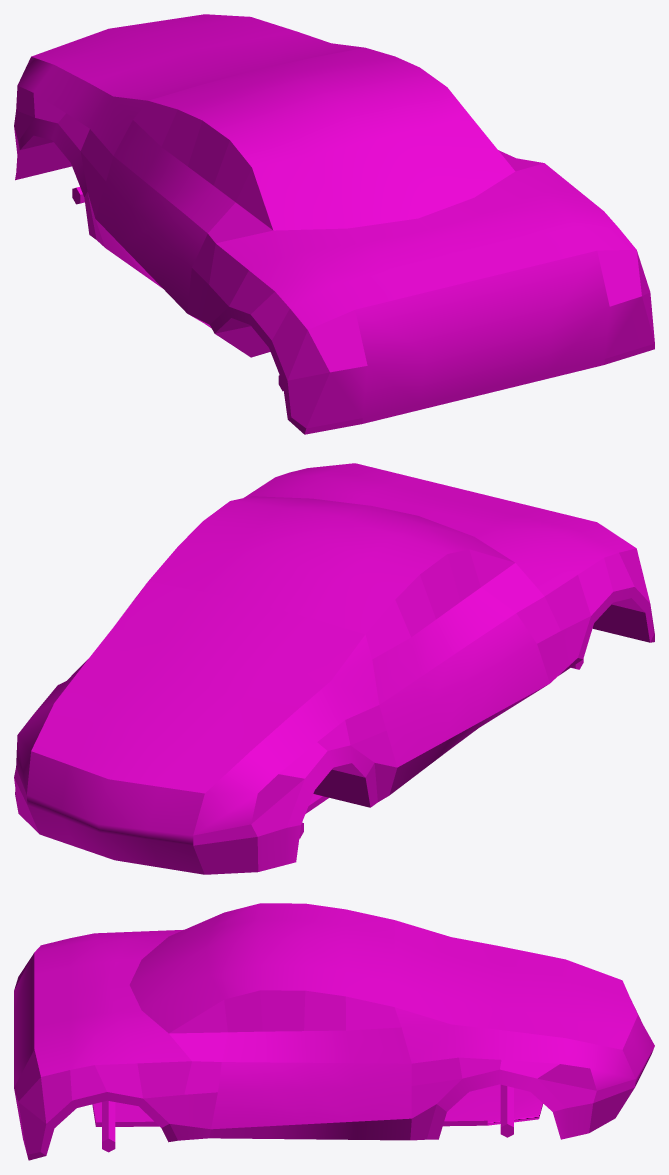
The model's file is P1_Car_Sport.fbx.
3 renders of one model, top to bottom at view 1: azimuth 30°, elevation 25°; view 2: azimuth 150°, elevation 25°; view 3: azimuth 270°, elevation 25°, orthographic. The views are drawn at different scales.
Parts seen in each view (by area): view 1: Car_Sport; view 2: Car_Sport; view 3: Car_Sport.
Part boxes in pixels (<box>): Car_Sport: <box>14,14,654,434</box>; Car_Sport: <box>14,463,654,874</box>; Car_Sport: <box>14,903,654,1160</box>.
Bounding box in the file's own units: 26.85 × 12.89 × 49.24.
